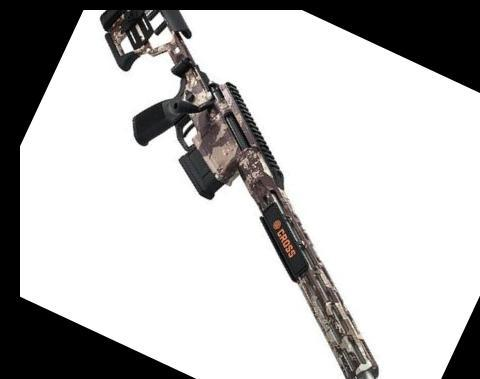larga: (99, 10, 380, 379)
